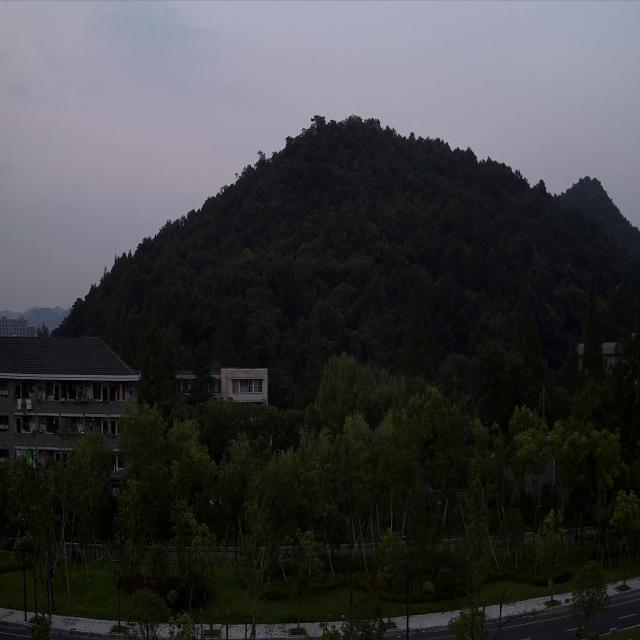UAV: (522, 335, 526, 339)
